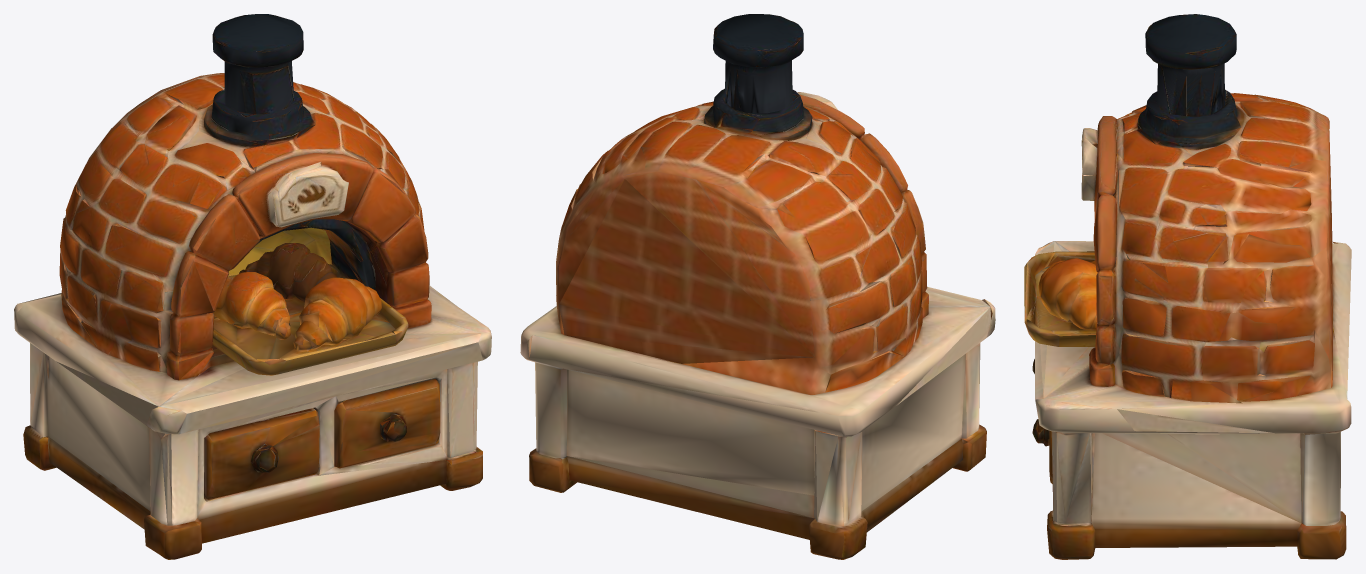
File: oven.gltf
3 views of the same model, side by side, from view 1: azimuth 30°, elevation 25°; view 2: azimuth 150°, elevation 25°; view 3: azimuth 270°, elevation 25° (orthographic). The views are drawn at different scales.
Parts seen in each view (by area): view 1: oven; view 2: oven; view 3: oven.
Boxes of the visible parts, x1=… form: oven: x1=14, y1=14, x2=491, y2=559; oven: x1=520, y1=14, x2=995, y2=559; oven: x1=1024, y1=14, x2=1351, y2=559.
Bounding box in the file's own units: 1.8 × 2.23 × 1.47.
Materials: 1 (1 with a texture image).
